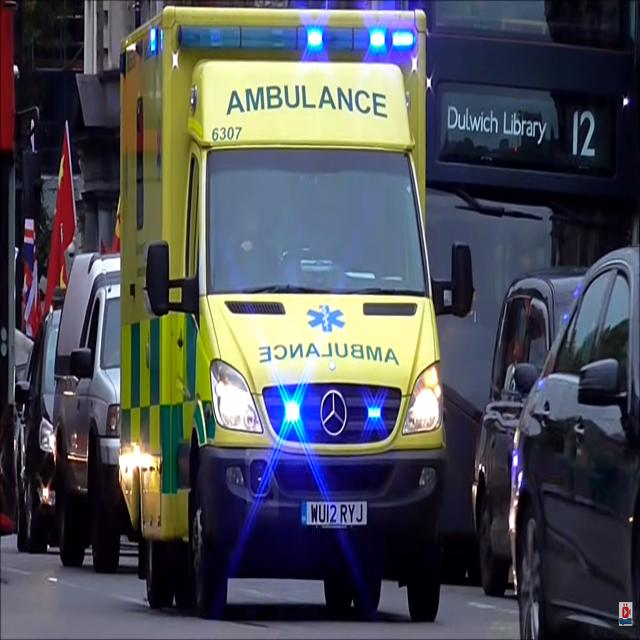emergency-vehicles: (98, 0, 469, 640)
